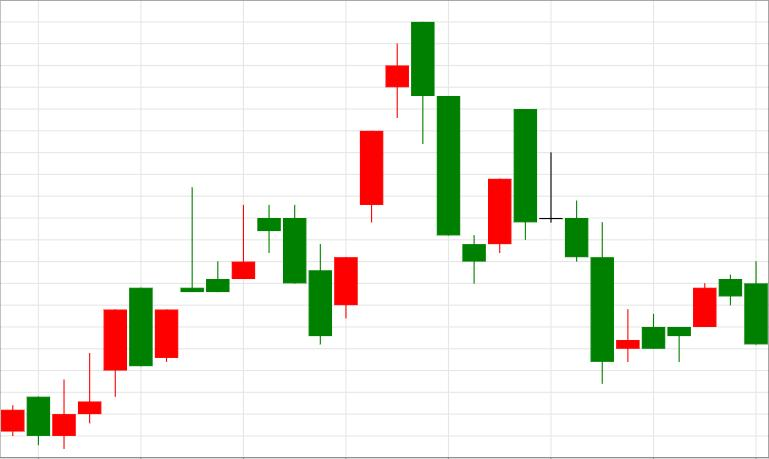bearish_engulfing_fall: (309, 21, 435, 344)
morning_star_rise: (386, 21, 511, 284)
